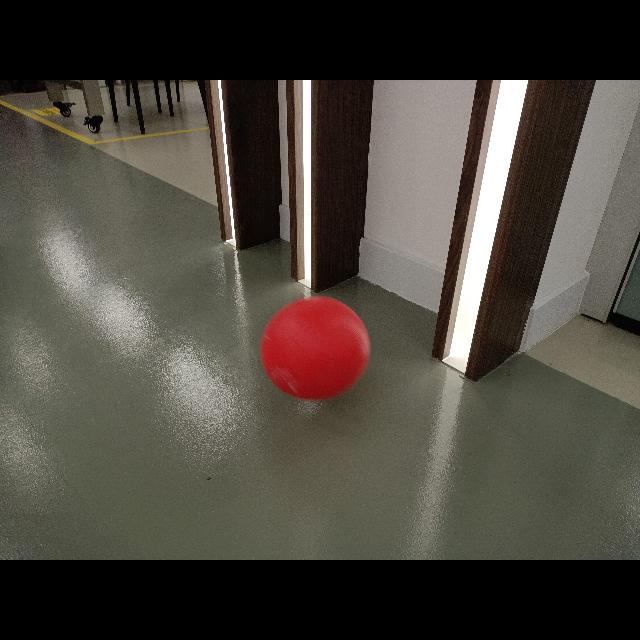R: (260, 296, 368, 398)
